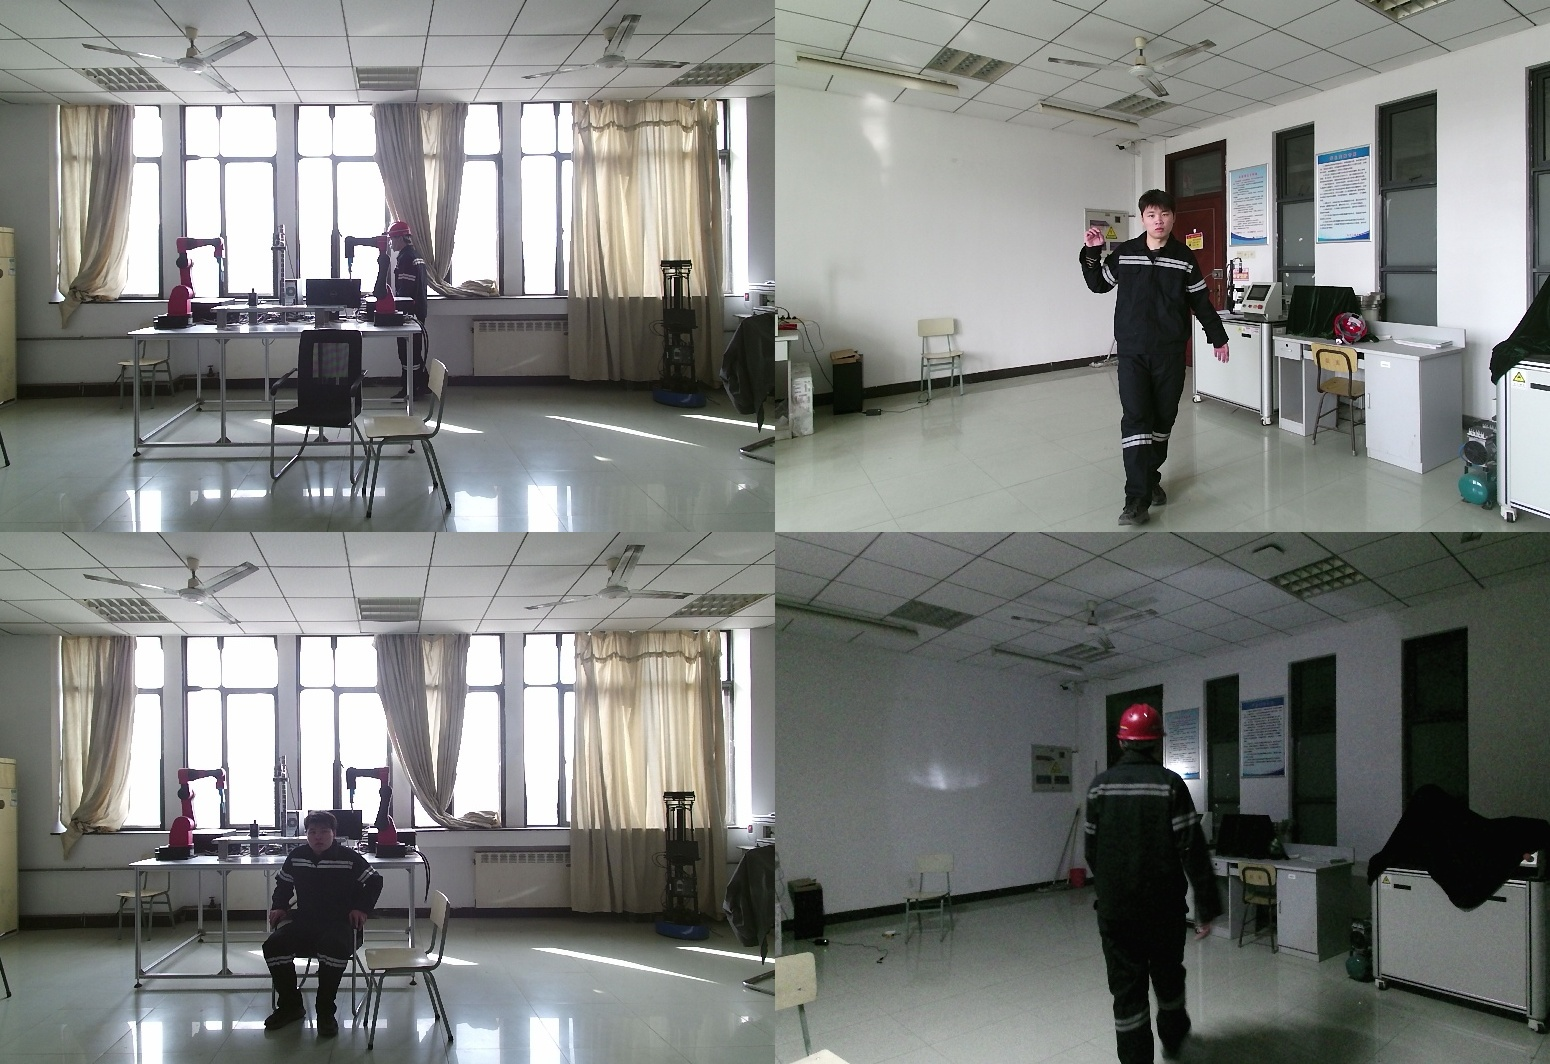person: (1071, 693, 1261, 1064), (1080, 191, 1232, 521), (264, 812, 390, 1036), (383, 220, 428, 402)
